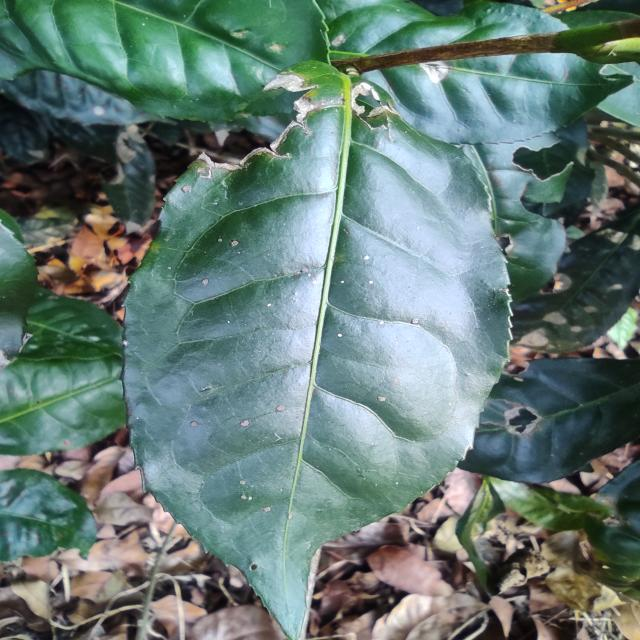Category D(7+ days, Not for Tea): (100, 45, 528, 640)
